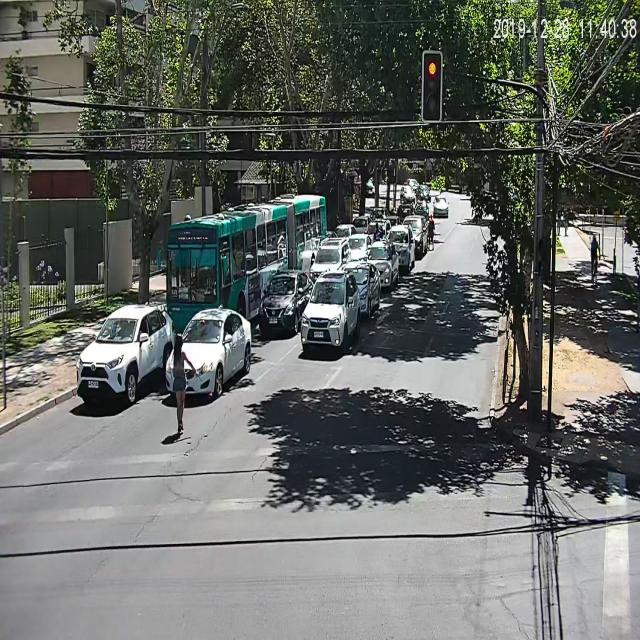AB: (154, 188, 327, 352)
